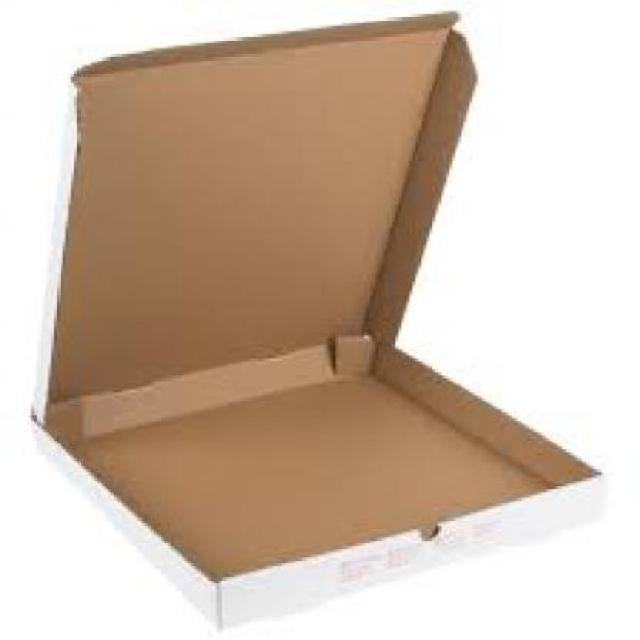CARDBOARD: (22, 8, 598, 626)
